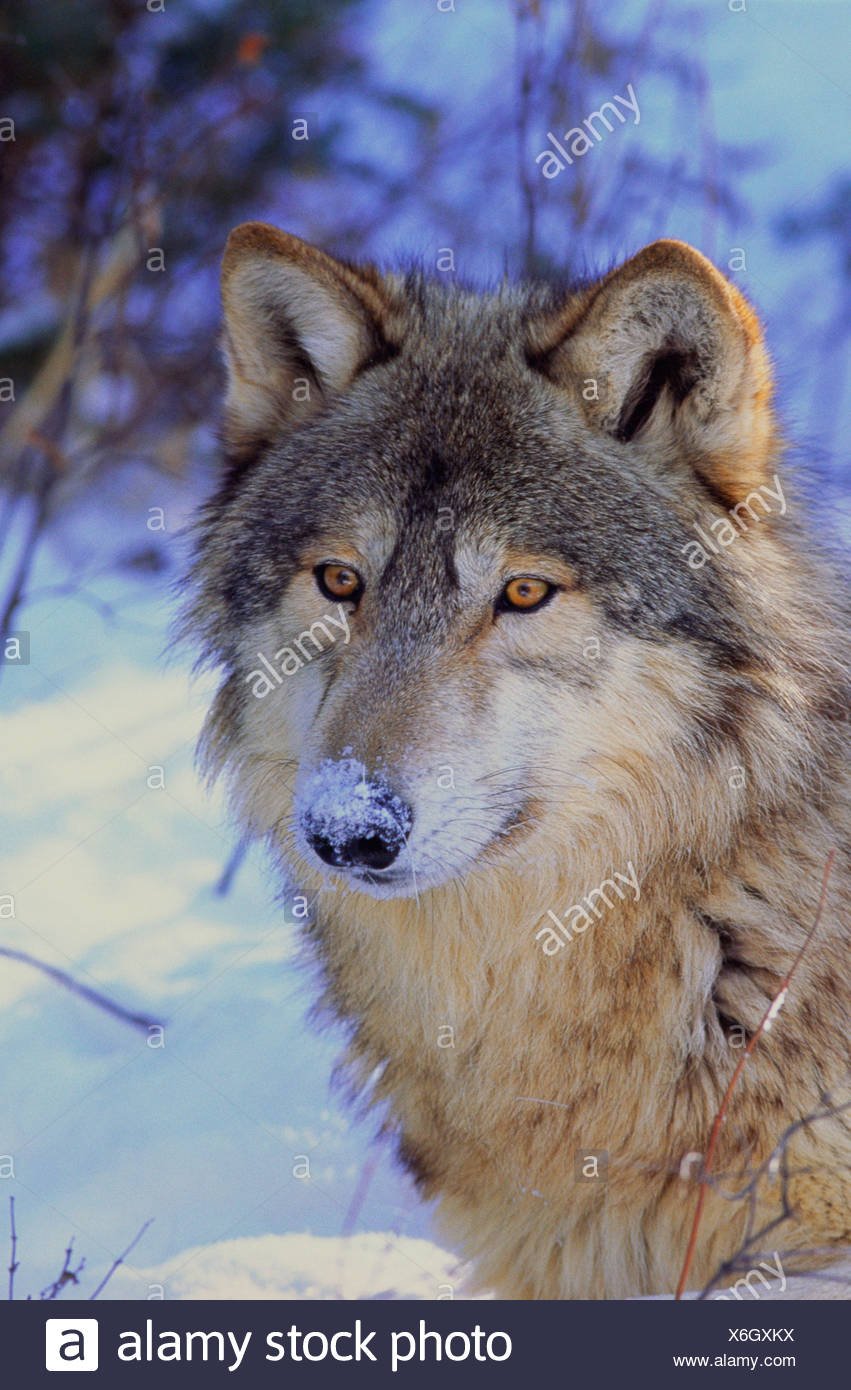Lobo: (171, 160, 780, 1245)
